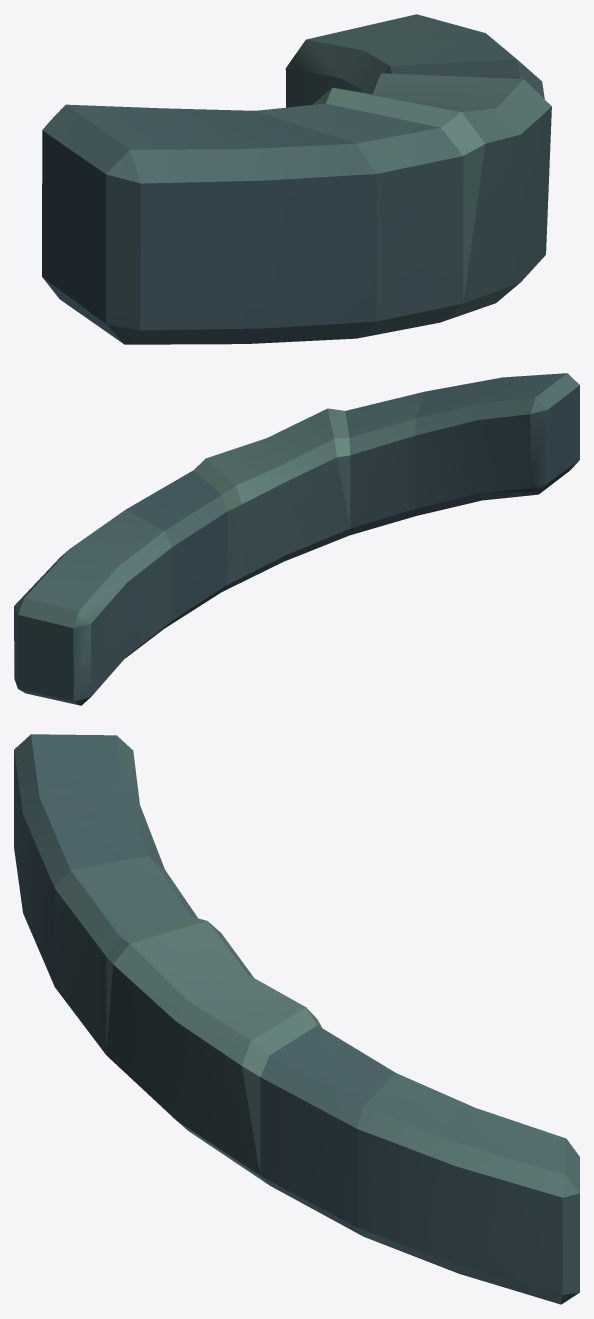
Rendered from stair_round_border_inside.fbx.
3 renders of one model, top to bottom at view 1: azimuth 30°, elevation 25°; view 2: azimuth 150°, elevation 25°; view 3: azimuth 270°, elevation 25°, orthographic. The views are drawn at different scales.
Parts seen in each view (by area): view 1: stair_round_border_inside; view 2: stair_round_border_inside; view 3: stair_round_border_inside.
Part boxes in pixels (x1=…): stair_round_border_inside: x1=42, y1=14, x2=551, y2=344; stair_round_border_inside: x1=14, y1=373, x2=579, y2=705; stair_round_border_inside: x1=14, y1=734, x2=579, y2=1304.
Bounding box in the file's own units: 228 × 154 × 228.
